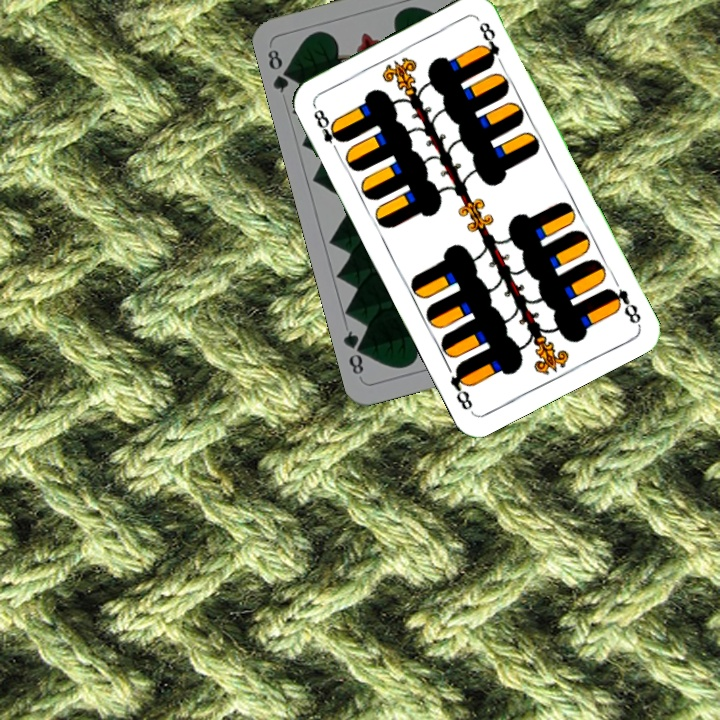E8: (309, 101, 347, 157), (603, 284, 644, 328)
G8: (263, 45, 297, 96)
